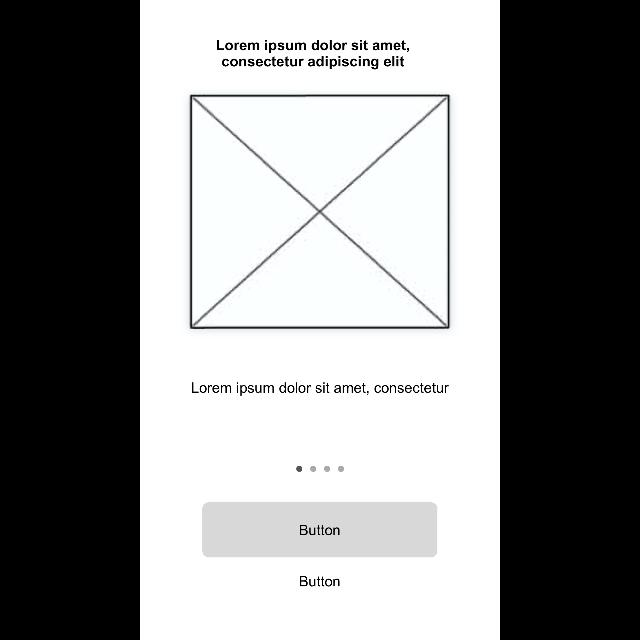image: (190, 94, 450, 330)
pageindicator: (296, 466, 344, 472)
text: (216, 40, 410, 70), (192, 382, 450, 396), (300, 576, 340, 586)
textbutton: (202, 502, 438, 558)
